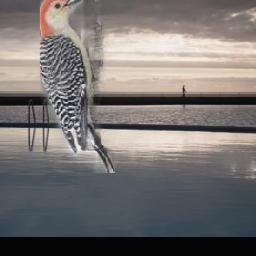Woodpecker: (40, 0, 115, 173)
